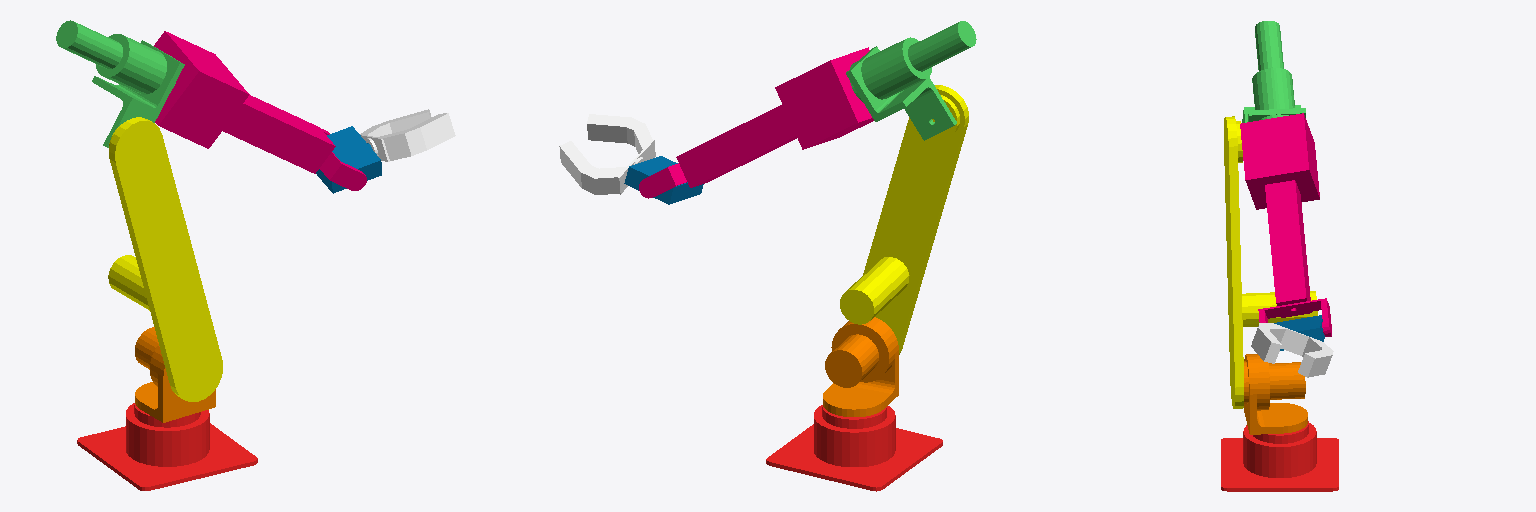
robot.urdf — uwrt_mars_rover_arm_urdf:
<?xml version="1.0" encoding="utf-8"?>
<!-- This URDF was automatically created by SolidWorks to URDF Exporter! Originally created by [author] ([email redacted]) 
     Commit Version: 1.6.0-4-g7f85cfe  Build Version: 1.6.7995.38578
     For more information, please see http://wiki.ros.org/sw_urdf_exporter -->
<robot
  name="uwrt_mars_rover_arm_urdf">
  
  <!-- <link
    name="dummy_link">
  </link> -->

  <link
    name="Link_1">
    <inertial>
      <origin
        xyz="3.45284815353392E-18 5.9169086273473E-18 0.0311310323619364"
        rpy="0 0 0" />
      <mass
        value="0.9908768618455" />
      <inertia
        ixx="0.00193224199273723"
        ixy="-1.26558633720613E-19"
        ixz="1.0274980838522E-19"
        iyy="0.00193224199273723"
        iyz="-1.78493428935872E-21"
        izz="0.00277181976516411" />
    </inertial>
    <visual>
      <origin
        xyz="0 0 0"
        rpy="0 0 0" />
      <geometry>
        <mesh
          filename="package://uwrt_mars_rover_arm_urdf/meshes/Link_1.STL" />
      </geometry>
      <material
        name="">
        <color
          rgba="1 0.168627450980392 0.168627450980392 1" />
      </material>
    </visual>
    <collision>
      <origin
        xyz="0 0 0"
        rpy="0 0 0" />
      <geometry>
        <mesh
          filename="package://uwrt_mars_rover_arm_urdf/meshes/Link_1.STL" />
      </geometry>
    </collision>
  </link>
  <link
    name="Link_2">
    <inertial>
      <origin
        xyz="-4.33680868994202E-19 -0.0218746338869585 0.0584002783909983"
        rpy="0 0 0" />
      <mass
        value="0.595046244174356" />
      <inertia
        ixx="0.00111228081620128"
        ixy="6.09863722023096E-20"
        ixz="4.40457132572236E-20"
        iyy="0.00088455656527034"
        iyz="5.94084456703445E-05"
        izz="0.000786586541078942" />
    </inertial>
    <visual>
      <origin
        xyz="0 0 0"
        rpy="0 0 0" />
      <geometry>
        <mesh
          filename="package://uwrt_mars_rover_arm_urdf/meshes/Link_2.STL" />
      </geometry>
      <material
        name="">
        <color
          rgba="1 0.549019607843137 0 1" />
      </material>
    </visual>
    <collision>
      <origin
        xyz="0 0 0"
        rpy="0 0 0" />
      <geometry>
        <mesh
          filename="package://uwrt_mars_rover_arm_urdf/meshes/Link_2.STL" />
      </geometry>
    </collision>
  </link>


  <!-- <joint
    name="dummy_link"
    type="continuous">
    <origin
      xyz="0 0 0"
      rpy="0 0 0" />
    <parent
      link="dummy_link" />
    <child
      link="Link_1" />
  </joint> -->

  <joint
    name="Joint_1"
    type="continuous">
    <origin
      xyz="0 0 0.080875"
      rpy="0 0 0.099642" />
    <parent
      link="Link_1" />
    <child
      link="Link_2" />
    <axis
      xyz="0 0 1" />
  </joint>
  <link
    name="Link_3">
    <inertial>
      <origin
        xyz="-0.0500963270913242 -0.0463282465480843 0.181541810274639"
        rpy="0 0 0" />
      <mass
        value="0.917184046508576" />
      <inertia
        ixx="0.0138200547681186"
        ixy="-0.000355406342064532"
        ixz="0.00331422153353445"
        iyy="0.0137432272963453"
        iyz="0.00128794094233421"
        izz="0.00272435445345874" />
    </inertial>
    <visual>
      <origin
        xyz="0 0 0"
        rpy="0 0 0" />
      <geometry>
        <mesh
          filename="package://uwrt_mars_rover_arm_urdf/meshes/Link_3.STL" />
      </geometry>
      <material
        name="">
        <color
          rgba="1 1 0 1" />
      </material>
    </visual>
    <collision>
      <origin
        xyz="0 0 0"
        rpy="0 0 0" />
      <geometry>
        <mesh
          filename="package://uwrt_mars_rover_arm_urdf/meshes/Link_3.STL" />
      </geometry>
    </collision>
  </link>
  <joint
    name="Joint_2"
    type="continuous">
    <origin
      xyz="0 0 0.0729"
      rpy="0 0 0" />
    <parent
      link="Link_2" />
    <child
      link="Link_3" />
    <axis
      xyz="0 -1 0" />
  </joint>
  <link
    name="Link_4">
    <inertial>
      <origin
        xyz="-0.0262805457025431 -0.00581840309059909 0.089983338733109"
        rpy="0 0 0" />
      <mass
        value="0.627049529568899" />
      <inertia
        ixx="0.000770744672626453"
        ixy="4.64450389757546E-05"
        ixz="0.00016982255346519"
        iyy="0.00215655937628312"
        iyz="-0.000130568285779622"
        izz="0.00191645497186894" />
    </inertial>
    <visual>
      <origin
        xyz="0 0 0"
        rpy="0 0 0" />
      <geometry>
        <mesh
          filename="package://uwrt_mars_rover_arm_urdf/meshes/Link_4.STL" />
      </geometry>
      <material
        name="">
        <color
          rgba="0.341176470588235 0.83921568627451 0.411764705882353 1" />
      </material>
    </visual>
    <collision>
      <origin
        xyz="0 0 0"
        rpy="0 0 0" />
      <geometry>
        <mesh
          filename="package://uwrt_mars_rover_arm_urdf/meshes/Link_4.STL" />
      </geometry>
    </collision>
  </link>
  <joint
    name="Joint_3"
    type="continuous">
    <origin
      xyz="-0.1064 0 0.38559"
      rpy="0 0.60304 0" />
    <parent
      link="Link_3" />
    <child
      link="Link_4" />
    <axis
      xyz="0 1 0" />
  </joint>
  <link
    name="Link_5">
    <inertial>
      <origin
        xyz="-0.0235787688200574 3.46944695195361E-16 -4.44089209850063E-16"
        rpy="0 0 0" />
      <mass
        value="1.7525834915569" />
      <inertia
        ixx="0.00241236974458071"
        ixy="-2.48011246956059E-18"
        ixz="3.03576608295941E-18"
        iyy="0.0178130242879475"
        iyz="1.51788304147971E-18"
        izz="0.0180488889834462" />
    </inertial>
    <visual>
      <origin
        xyz="0 0 0"
        rpy="0 0 0" />
      <geometry>
        <mesh
          filename="package://uwrt_mars_rover_arm_urdf/meshes/Link_5.STL" />
      </geometry>
      <material
        name="">
        <color
          rgba="1 0 0.501960784313725 1" />
      </material>
    </visual>
    <collision>
      <origin
        xyz="0 0 0"
        rpy="0 0 0" />
      <geometry>
        <mesh
          filename="package://uwrt_mars_rover_arm_urdf/meshes/Link_5.STL" />
      </geometry>
    </collision>
  </link>
  <joint
    name="Joint_4"
    type="continuous">
    <origin
      xyz="0.18399 -0.003 0.1"
      rpy="0.23732 0 0" />
    <parent
      link="Link_4" />
    <child
      link="Link_5" />
    <axis
      xyz="1 0 0" />
  </joint>
  <link
    name="Link_6">
    <inertial>
      <origin
        xyz="0.00389072410438487 -1.52655665885959E-16 0.00388651691525255"
        rpy="0 0 0" />
      <mass
        value="0.19600796507661" />
      <inertia
        ixx="0.000192825843805829"
        ixy="7.79270311473956E-20"
        ixz="-4.83685916802688E-05"
        iyy="0.000123065110112774"
        iyz="-4.06575814682064E-20"
        izz="0.000192930506049025" />
    </inertial>
    <visual>
      <origin
        xyz="0 0 0"
        rpy="0 0 0" />
      <geometry>
        <mesh
          filename="package://uwrt_mars_rover_arm_urdf/meshes/Link_6.STL" />
      </geometry>
      <material
        name="">
        <color
          rgba="0.0392156862745098 0.490196078431373 0.709803921568627 1" />
      </material>
    </visual>
    <collision>
      <origin
        xyz="0 0 0"
        rpy="0 0 0" />
      <geometry>
        <mesh
          filename="package://uwrt_mars_rover_arm_urdf/meshes/Link_6.STL" />
      </geometry>
    </collision>
  </link>
  <joint
    name="Joint_5"
    type="continuous">
    <origin
      xyz="0.24141 0 0"
      rpy="0 0 0" />
    <parent
      link="Link_5" />
    <child
      link="Link_6" />
    <axis
      xyz="0 1 0" />
  </joint>
  <link
    name="Gripper">
    <inertial>
      <origin
        xyz="0.0752759854032844 2.77555756156289E-17 5.55111512312578E-17"
        rpy="0 0 0" />
      <mass
        value="0.178504764370265" />
      <inertia
        ixx="0.000372353878585998"
        ixy="1.38913403349705E-19"
        ixz="-2.58345048912562E-19"
        iyy="0.000297871186553816"
        iyz="0.000147810410105188"
        izz="0.000457931478879934" />
    </inertial>
    <visual>
      <origin
        xyz="0 0 0"
        rpy="0 0 0" />
      <geometry>
        <mesh
          filename="package://uwrt_mars_rover_arm_urdf/meshes/Gripper.STL" />
      </geometry>
      <material
        name="">
        <color
          rgba="1 1 1 1" />
      </material>
    </visual>
    <collision>
      <origin
        xyz="0 0 0"
        rpy="0 0 0" />
      <geometry>
        <mesh
          filename="package://uwrt_mars_rover_arm_urdf/meshes/Gripper.STL" />
      </geometry>
    </collision>
  </link>
  <joint
    name="Joint_6"
    type="continuous">
    <origin
      xyz="0.02049 0 0.020468"
      rpy="0 -0.78486 0" />
    <parent
      link="Link_6" />
    <child
      link="Gripper" />
    <axis
      xyz="1 0 0" />
  </joint>
</robot>

--- Facts derived from the render (not from the file) ---
3 views of the same robot in one strip: view 1: azimuth 30°, elevation 25°; view 2: azimuth 150°, elevation 25°; view 3: azimuth 270°, elevation 25° (orthographic).
Model uwrt_mars_rover_arm_urdf with 7 links and 6 joints (6 continuous), rooted at Link_1, posed every joint at zero.
Links seen in each view (by area): view 1: Link_3, Link_5, Link_1, Link_4, Gripper, Link_2, Link_6; view 2: Link_3, Link_5, Link_1, Link_4, Link_2, Gripper, Link_6; view 3: Link_5, Link_1, Link_3, Link_2, Link_4, Gripper, Link_6.
Boxes of the visible links, left/top/right/bottom form: Link_3: left=108, top=117, right=222, bottom=401; Link_5: left=154, top=31, right=366, bottom=190; Link_1: left=77, top=403, right=257, bottom=490; Link_4: left=56, top=20, right=184, bottom=147; Gripper: left=360, top=109, right=455, bottom=161; Link_2: left=135, top=327, right=215, bottom=422; Link_6: left=316, top=126, right=381, bottom=193; Link_3: left=840, top=85, right=968, bottom=354; Link_5: left=639, top=47, right=873, bottom=198; Link_1: left=766, top=405, right=942, bottom=491; Link_4: left=846, top=21, right=976, bottom=140; Link_2: left=823, top=317, right=898, bottom=416; Gripper: left=559, top=114, right=655, bottom=194; Link_6: left=624, top=156, right=703, bottom=204; Link_5: left=1240, top=113, right=1331, bottom=336; Link_1: left=1221, top=421, right=1338, bottom=491; Link_3: left=1224, top=116, right=1317, bottom=408; Link_2: left=1244, top=354, right=1307, bottom=434; Link_4: left=1242, top=21, right=1305, bottom=122; Gripper: left=1251, top=323, right=1333, bottom=377; Link_6: left=1274, top=315, right=1324, bottom=350.
Bounding box of the posed robot: 0.6593 × 0.1944 × 0.7281 m (x, y, z).
Meshes: 7 distinct files referenced, 7 mesh visuals loaded (7 binary STL).
